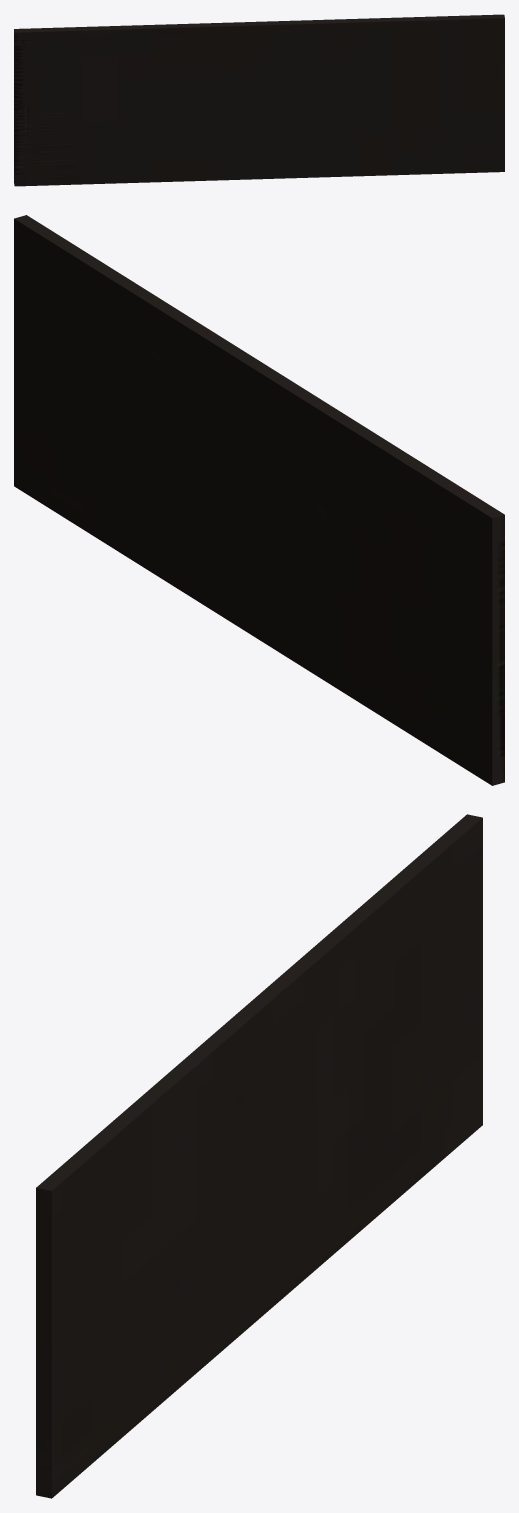
File: backrest__backrest_board.glb
3 renders of one model, top to bottom at view 1: azimuth 30°, elevation 25°; view 2: azimuth 150°, elevation 25°; view 3: azimuth 270°, elevation 25°, orthographic. The views are drawn at different scales.
Parts seen in each view (by area): view 1: world; view 2: world; view 3: world.
Boxes of the visible parts, x1,y1,x2,y2 form: world: (14, 14, 504, 186); world: (14, 215, 504, 785); world: (36, 814, 482, 1498).
Bounding box in the file's own units: 0.7616 × 0.29 × 0.3817.
1 material, 1 textured.
